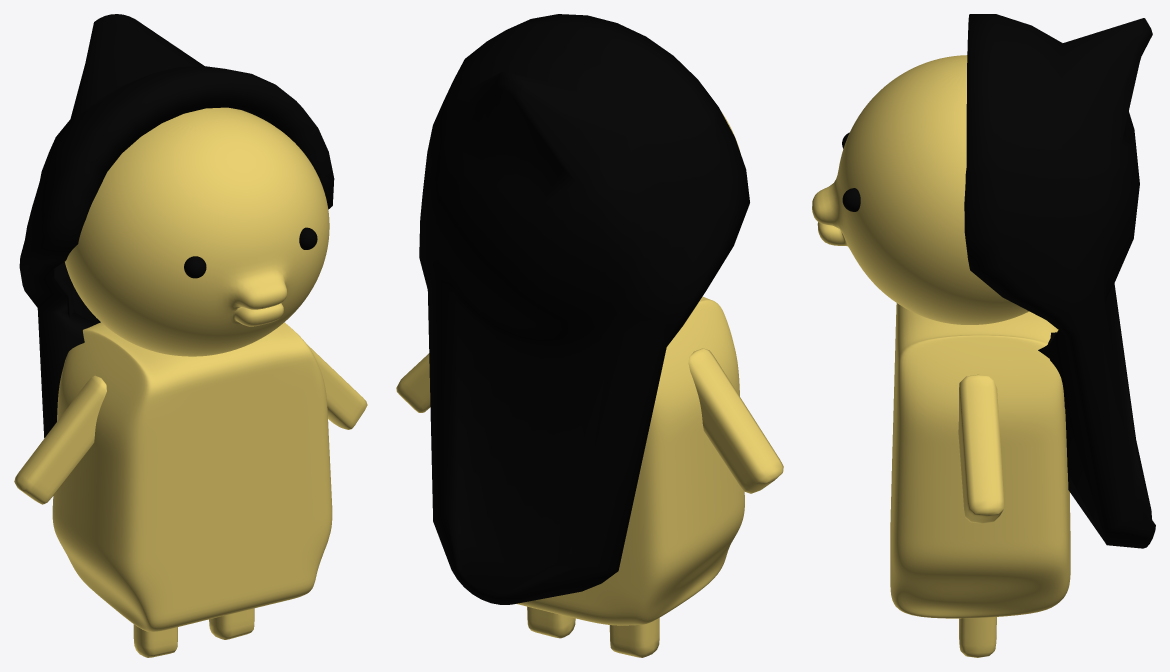
Rendered from thief_chick.fbx.
The picture shows the model from 3 angles, left to right: view 1: azimuth 30°, elevation 25°; view 2: azimuth 150°, elevation 25°; view 3: azimuth 270°, elevation 25°; orthographic projection. The views are drawn at different scales.
Visible parts, largest first — view 1: body, 머리, cloak, body.001, leg, 눈; view 2: cloak, body, body.001, leg; view 3: cloak, body, 머리, body.001, leg.
Part boxes in pixels (left/top/right/bottom): body: left=52, top=322, right=332, bottom=631; 머리: left=65, top=107, right=329, bottom=356; cloak: left=19, top=14, right=334, bottom=437; body.001: left=14, top=344, right=367, bottom=504; leg: left=133, top=608, right=254, bottom=657; 눈: left=184, top=227, right=317, bottom=278; cloak: left=419, top=14, right=749, bottom=604; body: left=516, top=296, right=744, bottom=625; body.001: left=396, top=348, right=783, bottom=493; leg: left=527, top=606, right=659, bottom=657; cloak: left=964, top=14, right=1155, bottom=548; body: left=890, top=303, right=1070, bottom=618; 머리: left=812, top=55, right=1028, bottom=324; body.001: left=958, top=374, right=1003, bottom=523; leg: left=959, top=617, right=996, bottom=657.
Size of the model in its own units: 262 by 415 by 212.
